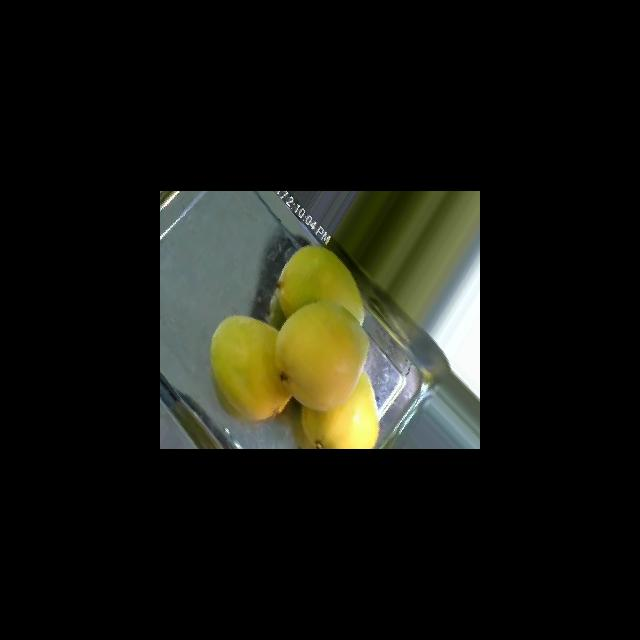Mango: (274, 299, 370, 411), (209, 314, 291, 422), (300, 370, 380, 448)
